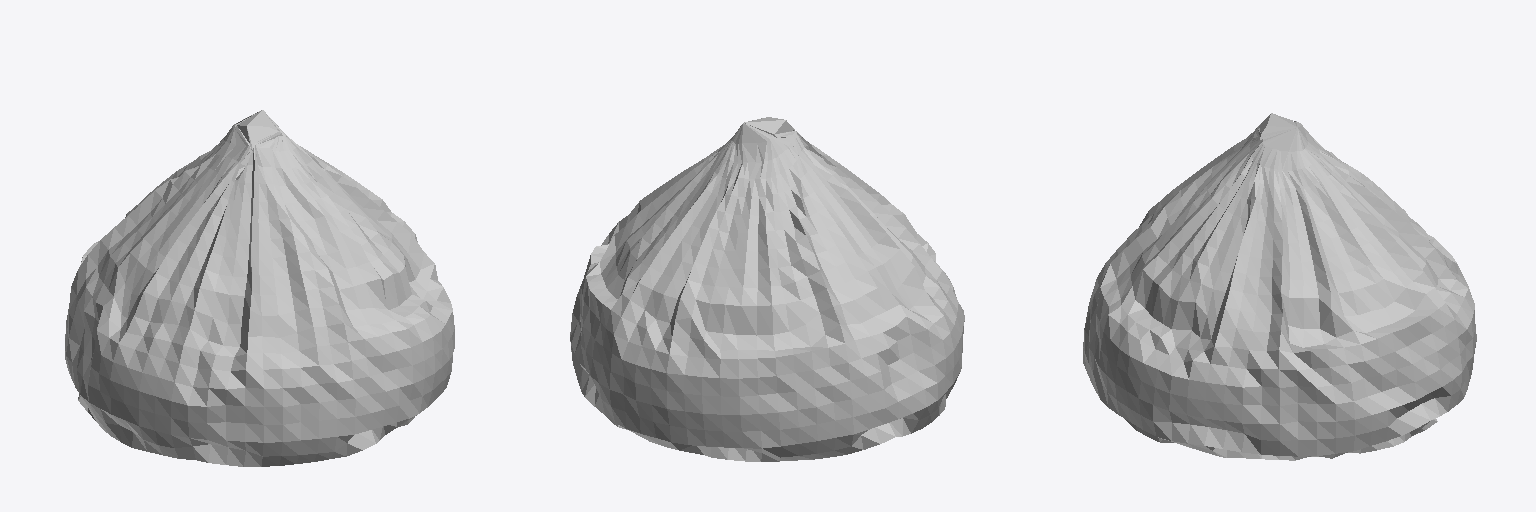
Rendered from TrashBag2.obj.
The picture shows the model from 3 angles: view 1: azimuth 30°, elevation 25°; view 2: azimuth 150°, elevation 25°; view 3: azimuth 270°, elevation 25°; orthographic projection.
Parts seen in each view (by area): view 1: Sphere_Sphere.002; view 2: Sphere_Sphere.002; view 3: Sphere_Sphere.002.
Boxes of the visible parts, x1,y1,x2,y2 form: Sphere_Sphere.002: [65, 110, 454, 466]; Sphere_Sphere.002: [570, 117, 964, 461]; Sphere_Sphere.002: [1083, 113, 1476, 460].
Size of the model in its own units: 1.3 by 1.01 by 1.32.